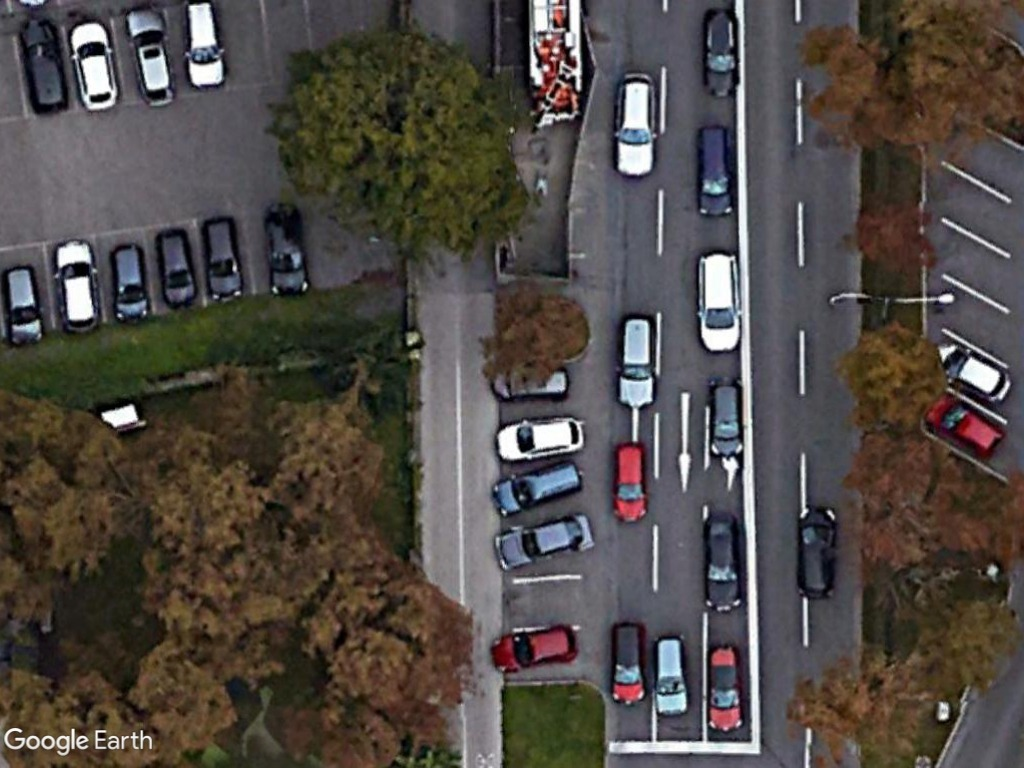car: (488, 508, 595, 573), (925, 386, 1008, 463), (118, 1, 177, 109), (485, 458, 585, 517), (693, 244, 744, 355), (612, 65, 660, 178), (690, 117, 739, 225), (487, 622, 579, 679), (16, 12, 65, 118), (261, 202, 314, 299), (52, 238, 104, 335), (493, 412, 585, 466), (68, 17, 121, 110), (702, 507, 747, 616), (794, 501, 841, 602), (616, 313, 659, 416), (180, 0, 226, 93), (199, 214, 247, 301), (698, 6, 742, 100), (606, 616, 650, 708), (0, 262, 45, 348), (107, 241, 151, 326), (609, 436, 650, 526), (705, 642, 745, 733), (154, 226, 197, 310), (706, 375, 747, 460), (651, 632, 690, 718)
